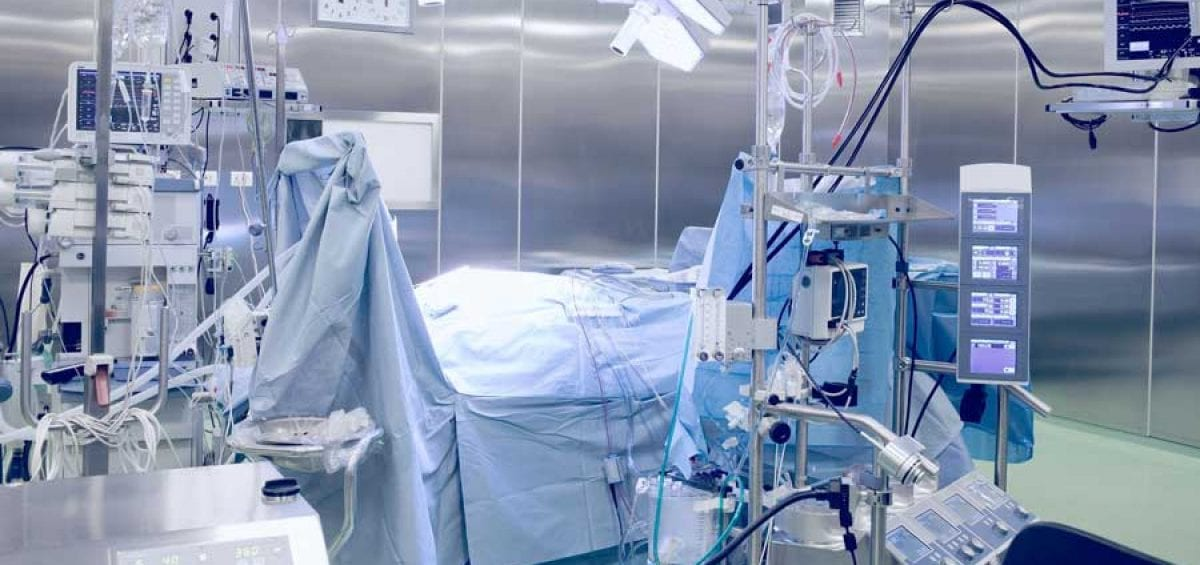bedside_monitor: (953, 162, 1032, 385), (48, 42, 205, 146), (1102, 1, 1200, 70), (817, 271, 865, 330)
surgical_light: (632, 1, 736, 72)
ventilator: (12, 161, 205, 474)
